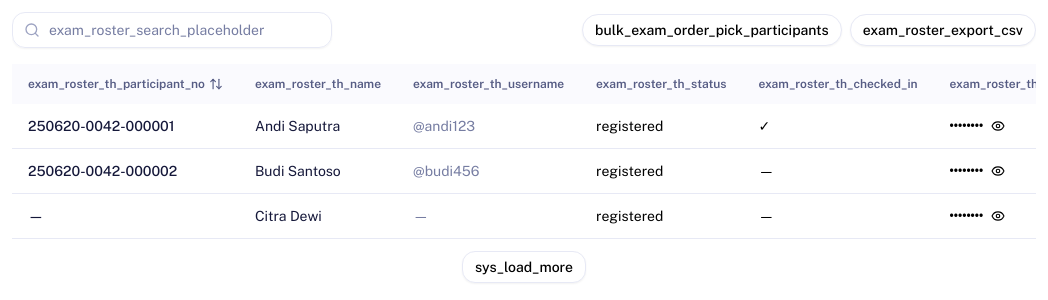
Test: ExamRegistrationsTab — participant roster (FR-32) › requests descending sort from page one when the header is clicked
The image size is (1048, 300).
Click the button "exam_roster_th_participant_no". click: (126, 84)
box: [28,76,223,92]
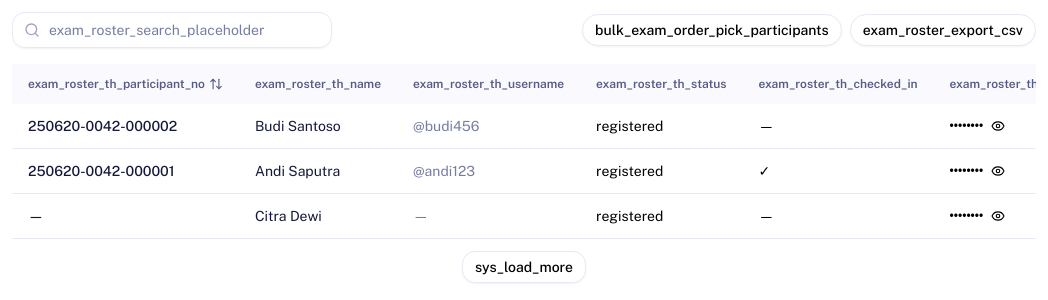
Expected: the elements with test id "roster-participant-no" read "250620-0042-000002", "250620-0042-000001", "—", in this order, [28,118,177,134]; [28,163,174,179]; [28,208,44,224]
